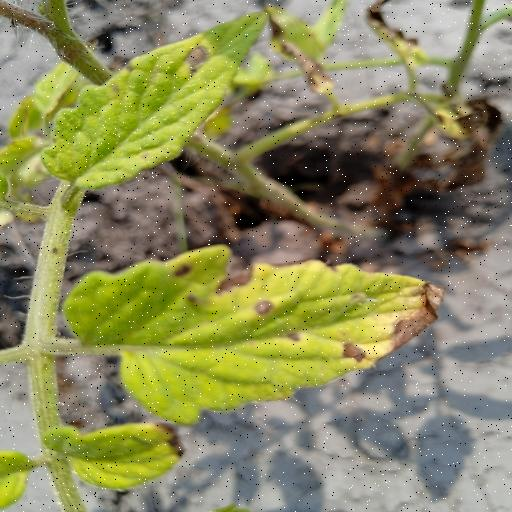Tomato_Brown_Spots: (64, 242, 450, 430), (45, 9, 275, 192)
